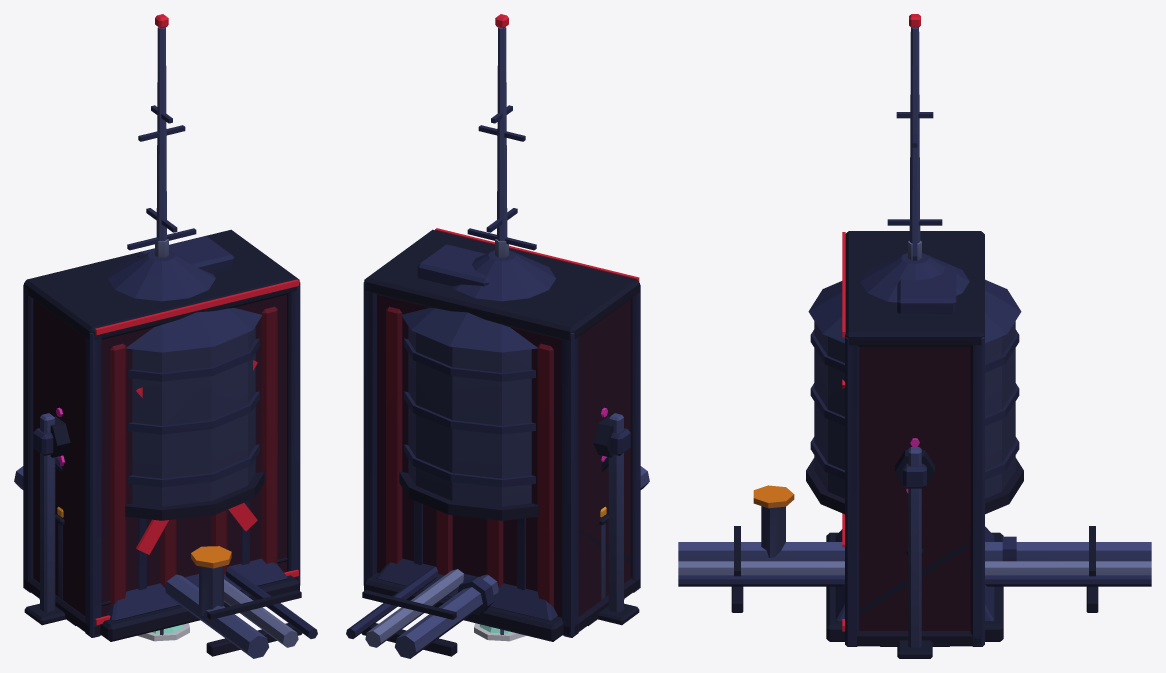
Rendered from kit.glb.
3 views of the same model, side by side, from view 1: azimuth 30°, elevation 25°; view 2: azimuth 150°, elevation 25°; view 3: azimuth 270°, elevation 25° (orthographic).
Parts seen in each view (by area): view 1: crate, tank, pipes, skylight, gantry, antenna, crate__glow, barricade; view 2: crate, tank, pipes, skylight, gantry, antenna, crate__glow, barricade; view 3: crate, pipes, tank, gantry, antenna, skylight, solar.
Part boxes in pixels (x1,y1,x2,y2): crate: [23, 229, 300, 637]; tank: [108, 239, 264, 590]; pipes: [14, 466, 317, 658]; skylight: [100, 558, 299, 641]; gantry: [24, 413, 70, 625]; antenna: [127, 27, 196, 250]; crate__glow: [95, 279, 298, 625]; barricade: [39, 514, 75, 625]; crate: [363, 229, 640, 637]; tank: [399, 239, 555, 590]; pipes: [346, 466, 649, 658]; skylight: [364, 558, 563, 641]; gantry: [593, 413, 639, 625]; antenna: [467, 27, 536, 250]; crate__glow: [435, 228, 639, 281]; barricade: [588, 514, 624, 625]; crate: [845, 231, 984, 646]; pipes: [678, 485, 1151, 612]; tank: [806, 241, 1023, 514]; gantry: [895, 447, 934, 658]; antenna: [887, 27, 942, 260]; skylight: [826, 526, 1003, 641]; solar: [859, 544, 967, 615].
Bounding box in the file's own units: 2.56 × 5.85 × 4.
